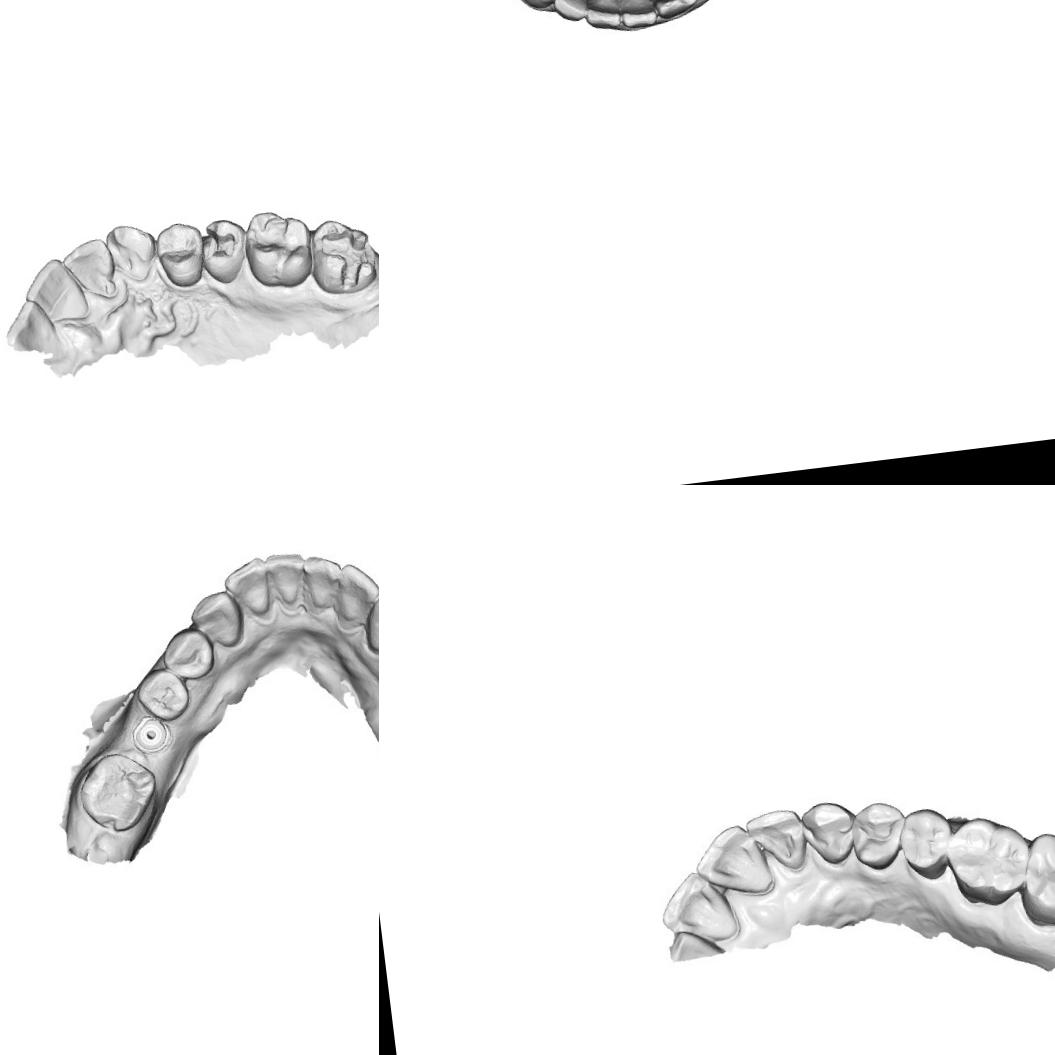canine: (188, 587, 246, 650), (104, 220, 160, 284), (807, 798, 854, 861), (360, 589, 379, 655)
implant: (130, 718, 170, 756)
incisor: (660, 866, 743, 948), (696, 824, 772, 902), (20, 254, 91, 326), (58, 235, 120, 306), (748, 804, 808, 876), (1, 296, 63, 362), (219, 557, 276, 622), (329, 561, 379, 628), (299, 554, 345, 612), (266, 550, 308, 610), (616, 0, 661, 33), (582, 0, 624, 33), (649, 0, 697, 20), (552, 0, 592, 24)
inlay: (315, 223, 377, 294), (198, 222, 239, 266)
molar: (940, 812, 1030, 910), (71, 748, 161, 840), (241, 206, 317, 293), (1010, 823, 1055, 929)
premolar: (843, 799, 906, 873), (892, 808, 952, 880), (152, 218, 209, 292), (159, 622, 216, 684), (134, 664, 192, 724)
